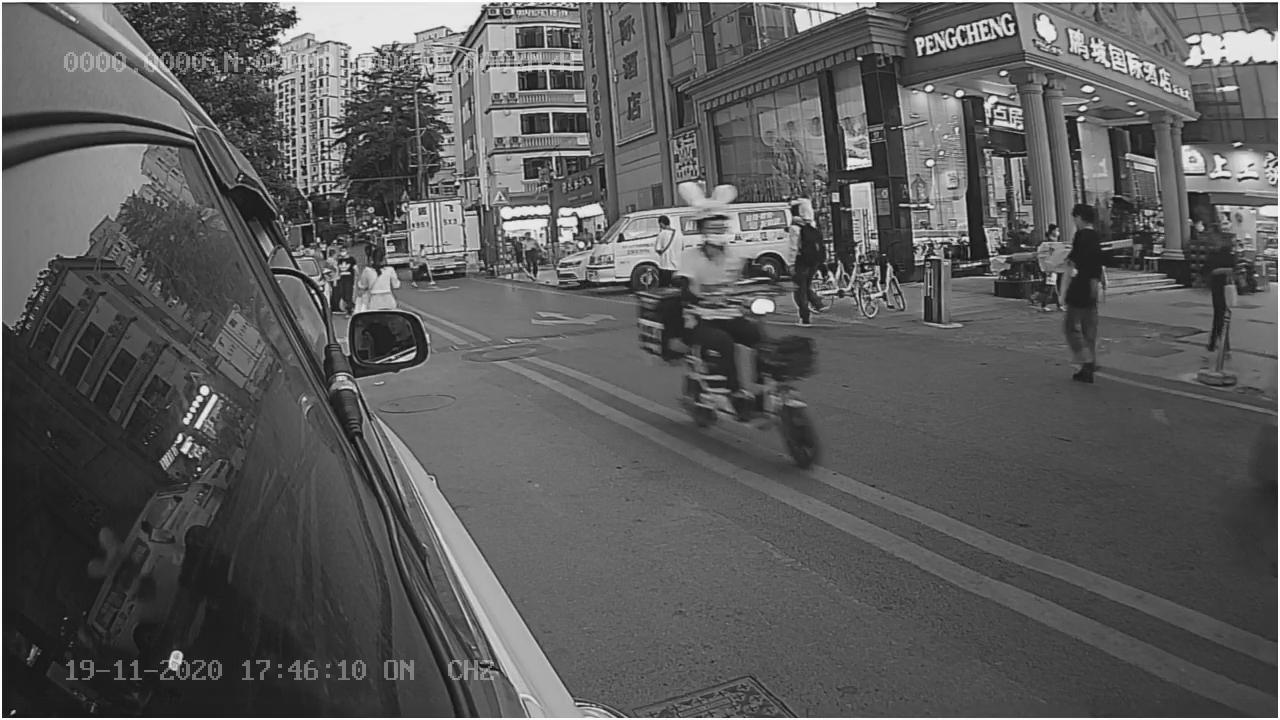person: (1055, 196, 1121, 398)
